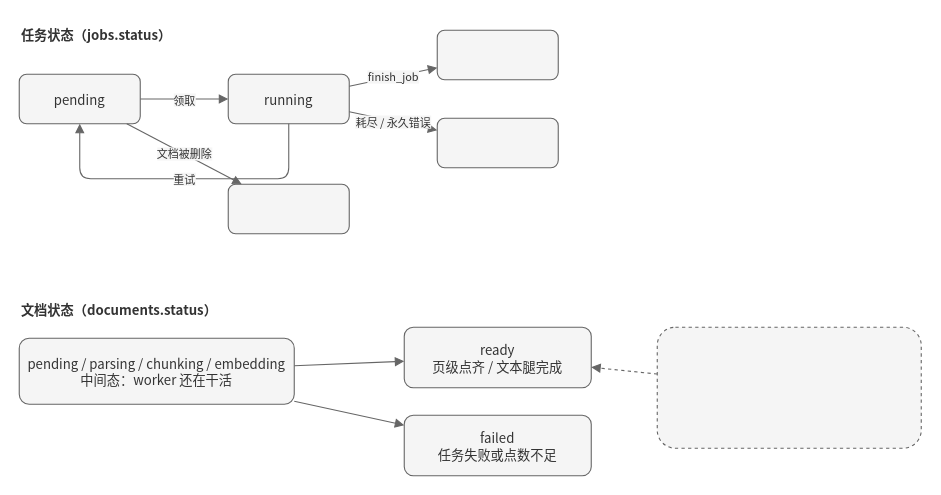
This 941x495 diagram has some shape labels left out. The centre of each missing label's shape, as x and y in pixels:
cancelled: [288,208]
done: [497,54]
failed: [497,142]
三个守卫： ① 只动中间态 ② 没有未完成 ingest / embed_visual ③ 页级点数 ≥ len(scan_pages): [788,387]
